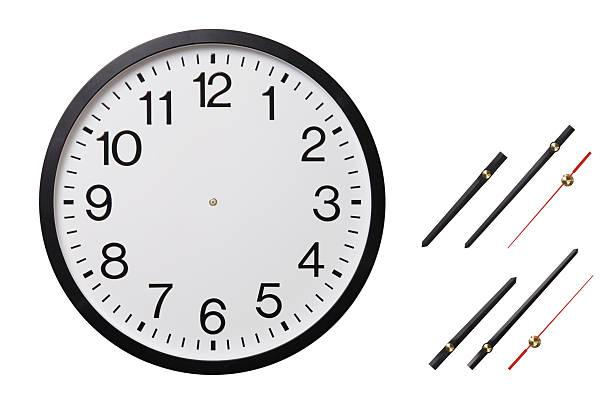clock: (43, 14, 389, 381)
